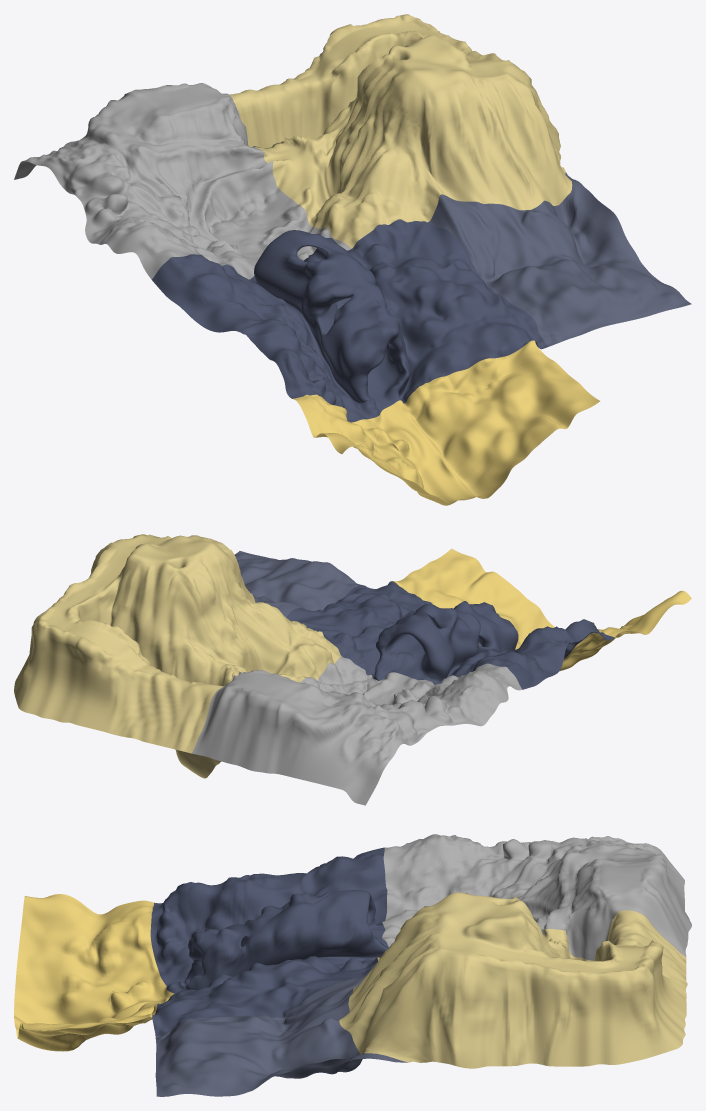
Rendered from terain_.fbx.
The picture shows the model from 3 angles, top to bottom: view 1: azimuth 30°, elevation 25°; view 2: azimuth 150°, elevation 25°; view 3: azimuth 270°, elevation 25°; orthographic projection. The views are drawn at different scales.
Visible parts, largest first — view 1: polySurface261, polySurface262, polySurface260, polySurface256, polySurface263; view 2: polySurface261, polySurface260, polySurface262, polySurface256, polySurface263; view 3: polySurface261, polySurface262, polySurface260, polySurface256, polySurface263.
Part boxes in pixels (left/top/right/bottom): polySurface261: left=230, top=14, right=600, bottom=401; polySurface262: left=152, top=219, right=548, bottom=422; polySurface260: left=14, top=83, right=351, bottom=279; polySurface256: left=293, top=340, right=598, bottom=505; polySurface263: left=428, top=172, right=691, bottom=346; polySurface261: left=14, top=534, right=452, bottom=778; polySurface260: left=191, top=656, right=522, bottom=805; polySurface262: left=286, top=581, right=614, bottom=689; polySurface256: left=391, top=549, right=691, bottom=671; polySurface263: left=234, top=551, right=370, bottom=617; polySurface261: left=26, top=892, right=687, bottom=1068; polySurface262: left=150, top=847, right=388, bottom=1035; polySurface260: left=382, top=834, right=691, bottom=960; polySurface256: left=14, top=894, right=174, bottom=1051; polySurface263: left=155, top=975, right=407, bottom=1096.
Size of the model in its own units: 31787 by 15763 by 42286.
